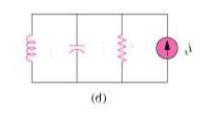resistor: (111, 28, 129, 64)
